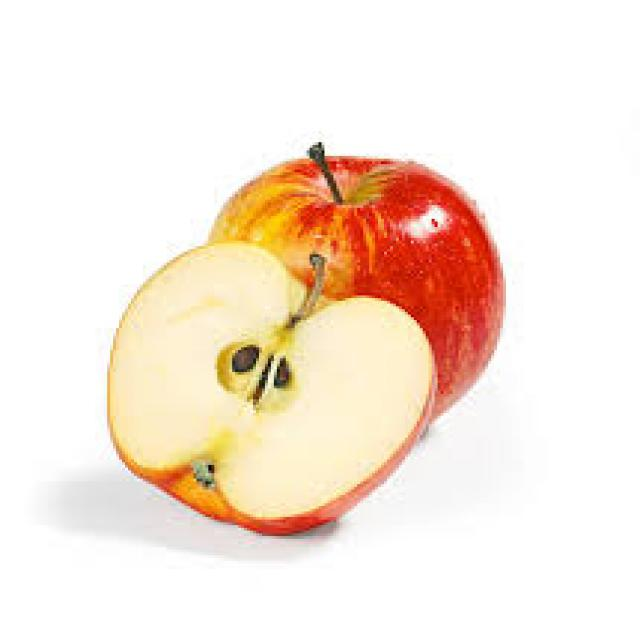Apple: (102, 239, 439, 529), (222, 156, 508, 435)
